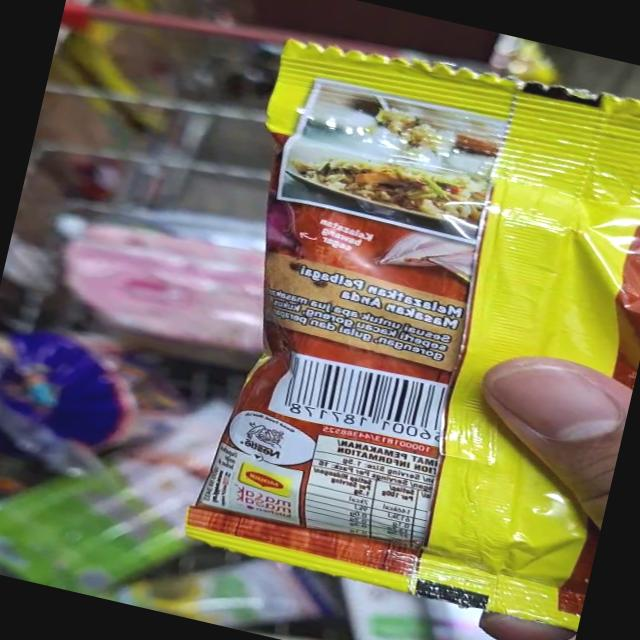Maggi Cukup Rasa: (164, 18, 640, 635)
